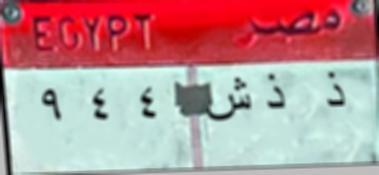4: (86, 84, 114, 130), (134, 80, 158, 125)
9: (36, 86, 72, 129)
sheen: (206, 74, 254, 124)
zaal: (313, 68, 354, 112), (259, 69, 290, 118)
